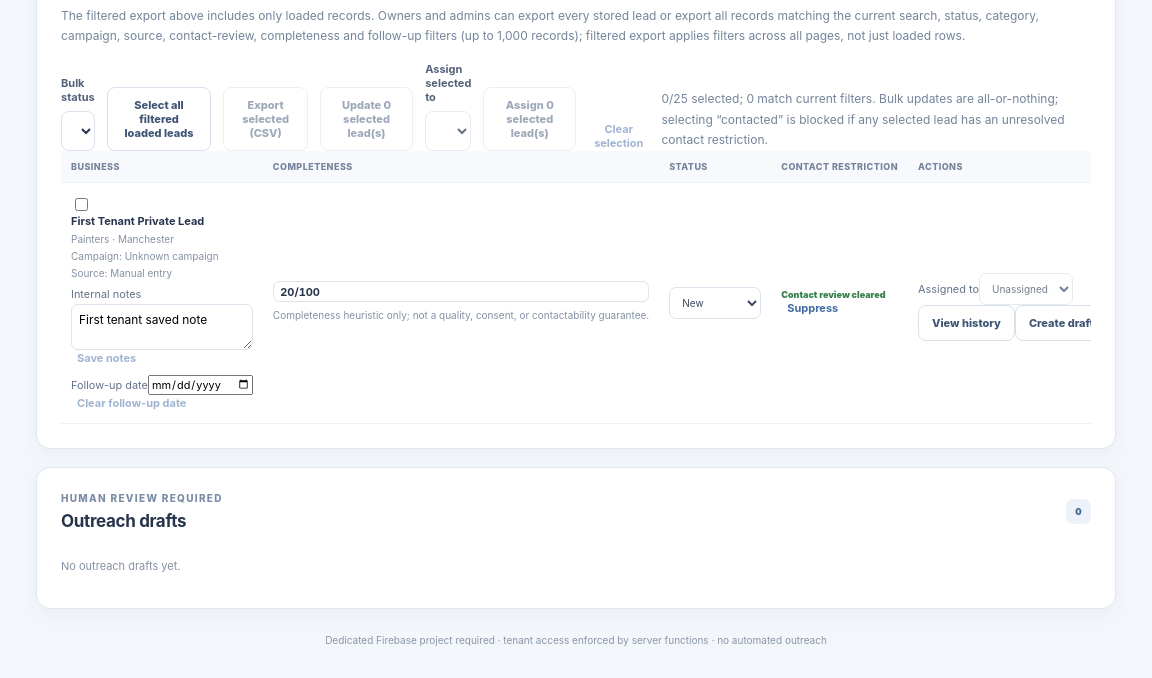
it: cloud authentication gate › clears the previous organisation's records immediately when switching workspaces
The image size is (1152, 678).
(page scrolled)
Expected: the text "First Tenant Private Lead" is shown, 71,214 -> 204,228
Replace the text in the text box named "Notes for First Tenant Private Lead" with "Unsaved first tenant note" at (162, 327), box 71,304 -> 253,350
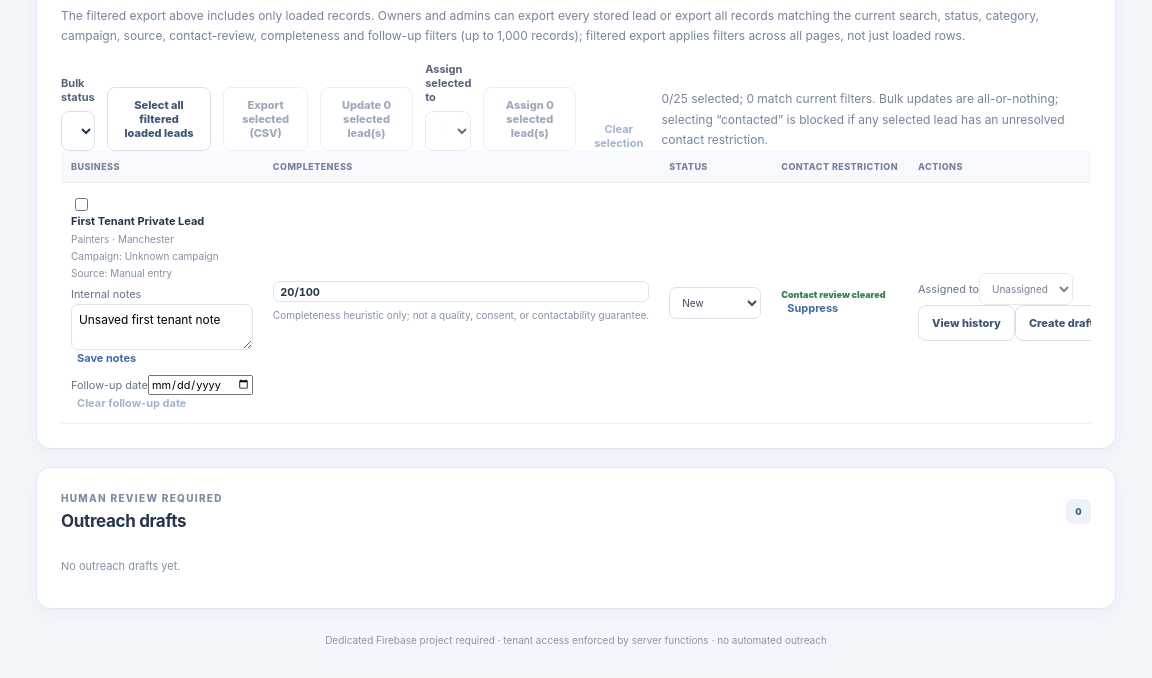
Click the checkbox named "Select First Tenant Private Lead for bulk status update".
click(82, 204)  # box 75,198 -> 88,210
(page scrolled)
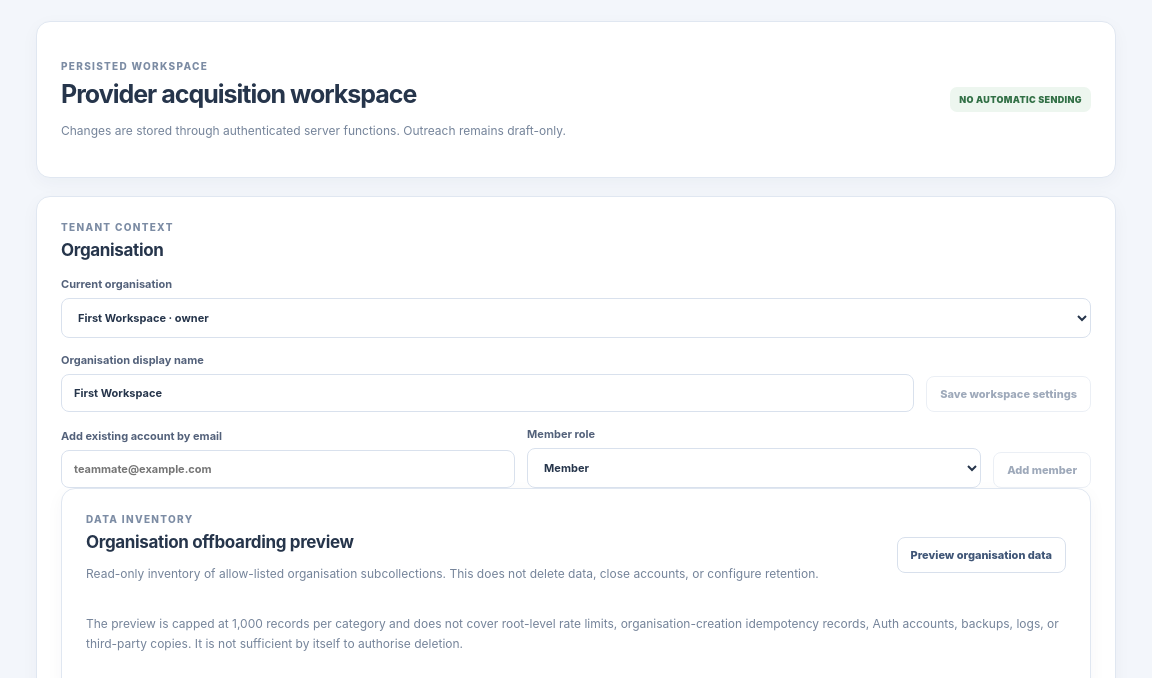
Select "Second Workspace · member" in the dropdown labelled "Current organisation" at (576, 318), box 61,298 -> 1091,338
(page scrolled)
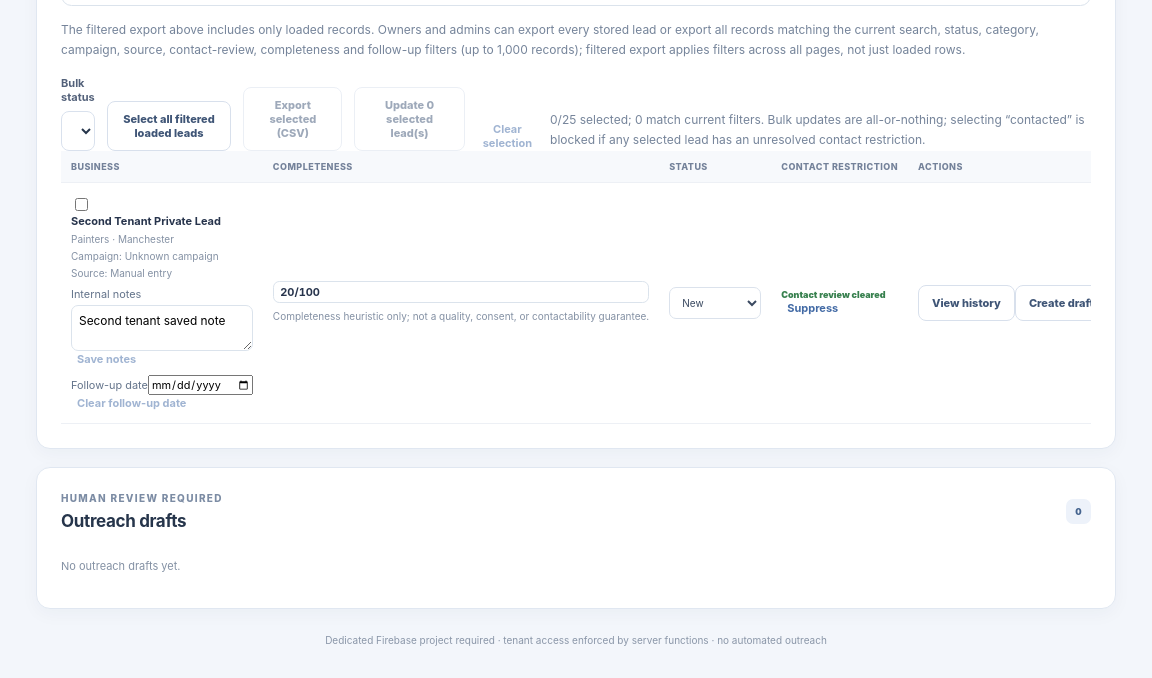
Result: the text "0/25 selected; 0 match current filters. Bulk updates are all-or-nothing; selecting “contacted” is blocked if any selecte" is shown at 550,110 -> 1091,151
Result: the text "Second Tenant Private Lead" is shown at 71,214 -> 221,228
Result: the text box named "Notes for Second Tenant Private Lead" holds "Second tenant saved note" at 71,305 -> 253,351
